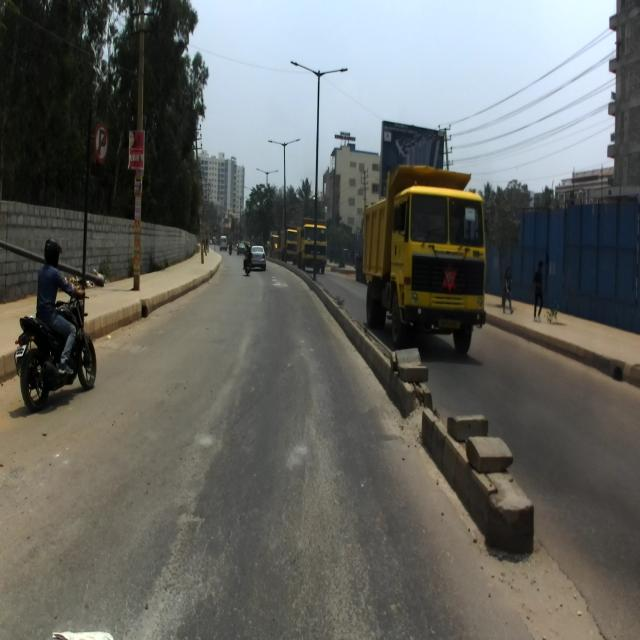electric pole ahead at: (125, 5, 159, 307)
motorcycle ahead at: (16, 292, 96, 414)
sign board ahead at: (92, 123, 114, 161)
truck ahead at: (362, 159, 488, 353)
